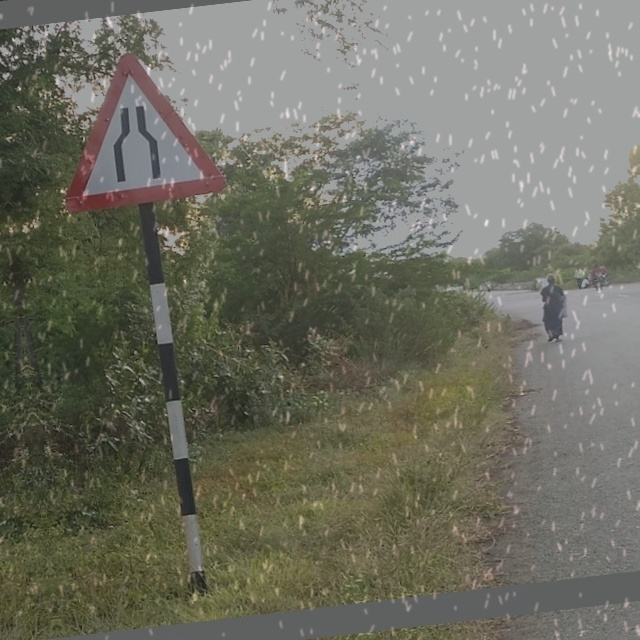Narrow_Road_Ahead: (48, 38, 232, 212)
